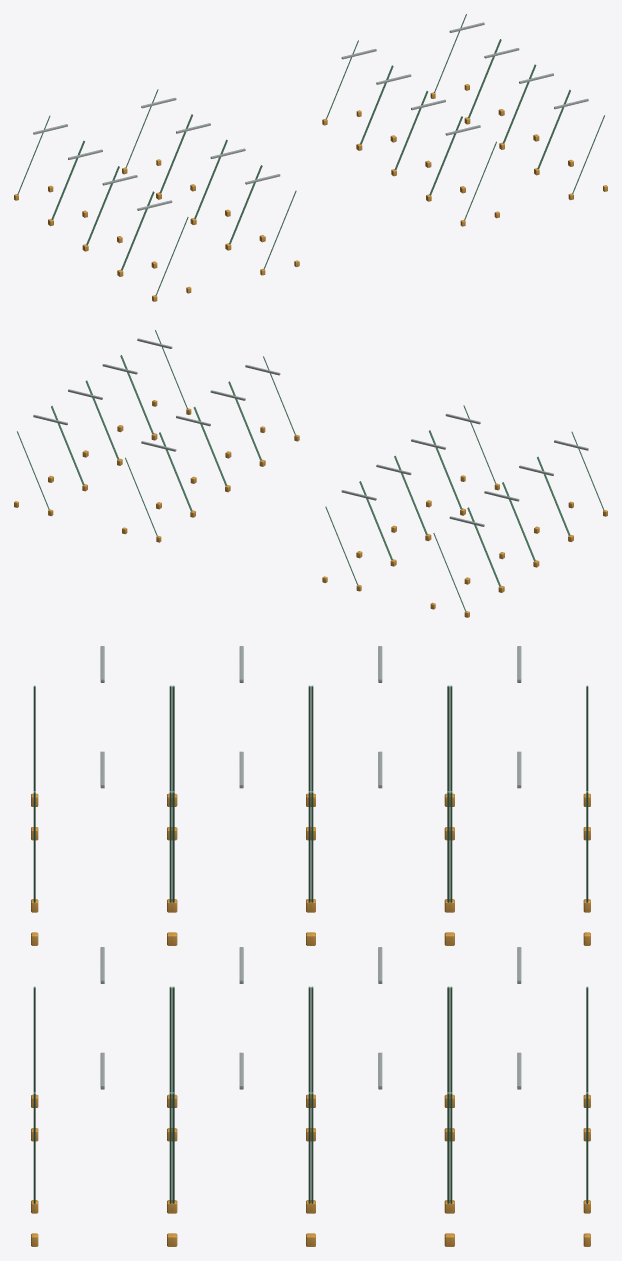
Rendered from acabado-estanterias.glb.
The picture shows the model from 3 angles, top to bottom: view 1: azimuth 30°, elevation 25°; view 2: azimuth 150°, elevation 25°; view 3: azimuth 270°, elevation 25°; orthographic projection. The views are drawn at different scales.
Visible parts, largest first — view 1: Verde lacado, Aluminio satinado, Protección amarilla; view 2: Verde lacado, Aluminio satinado, Protección amarilla; view 3: Verde lacado, Protección amarilla, Aluminio satinado.
Boxes of the visible parts, box(x1,y1,x2,y2) form: Verde lacado: box(17, 14, 604, 295); Aluminio satinado: box(33, 22, 588, 210); Protección amarilla: box(14, 84, 607, 301); Verde lacado: box(17, 330, 604, 611); Aluminio satinado: box(33, 338, 588, 526); Protección amarilla: box(14, 400, 607, 617); Verde lacado: box(33, 685, 588, 1203); Protección amarilla: box(31, 793, 590, 1246); Aluminio satinado: box(100, 646, 521, 1089).
Size of the model in its own units: 26.08 by 4.38 by 13.91.
